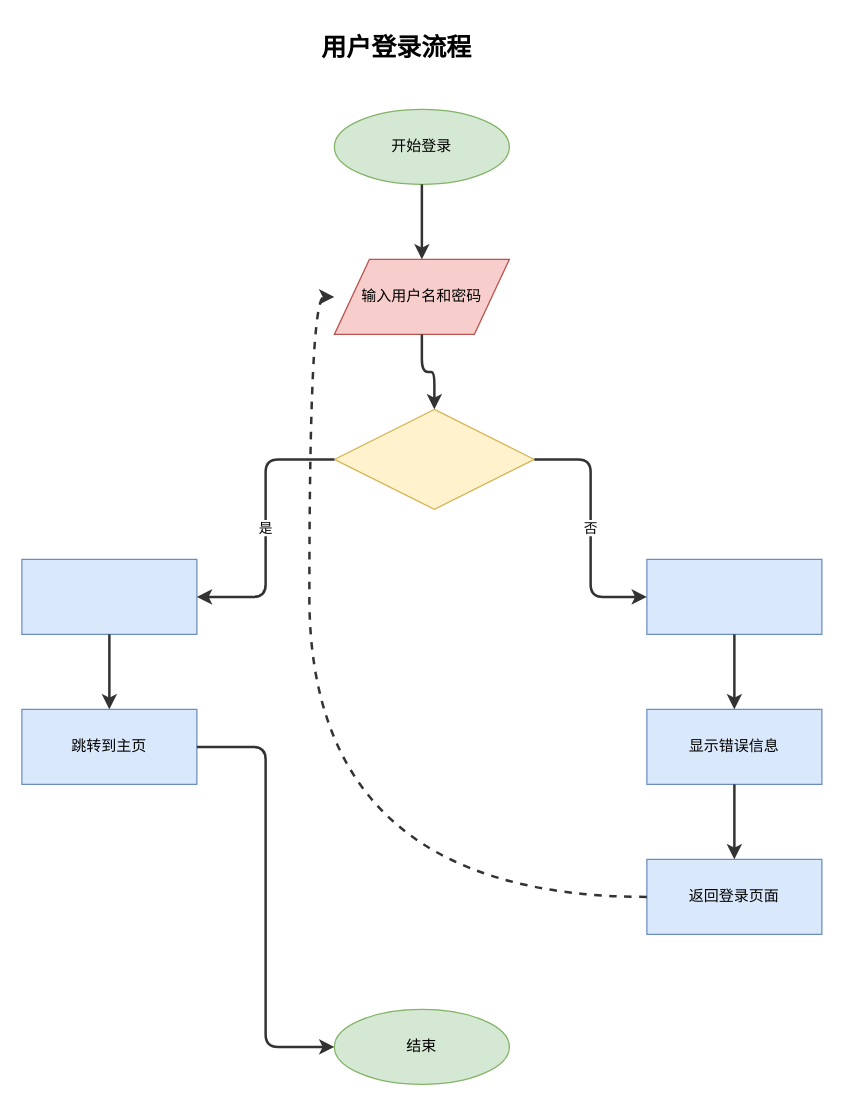
Image size: 844x1106. Some labels were removed from this diagram. The centre of each missing label's shape, as x and y in pixels:
"登录失败" belongs at pixel 734 596.
"登录成功" belongs at pixel 109 596.
"验证用户信息" belongs at pixel 433 458.
